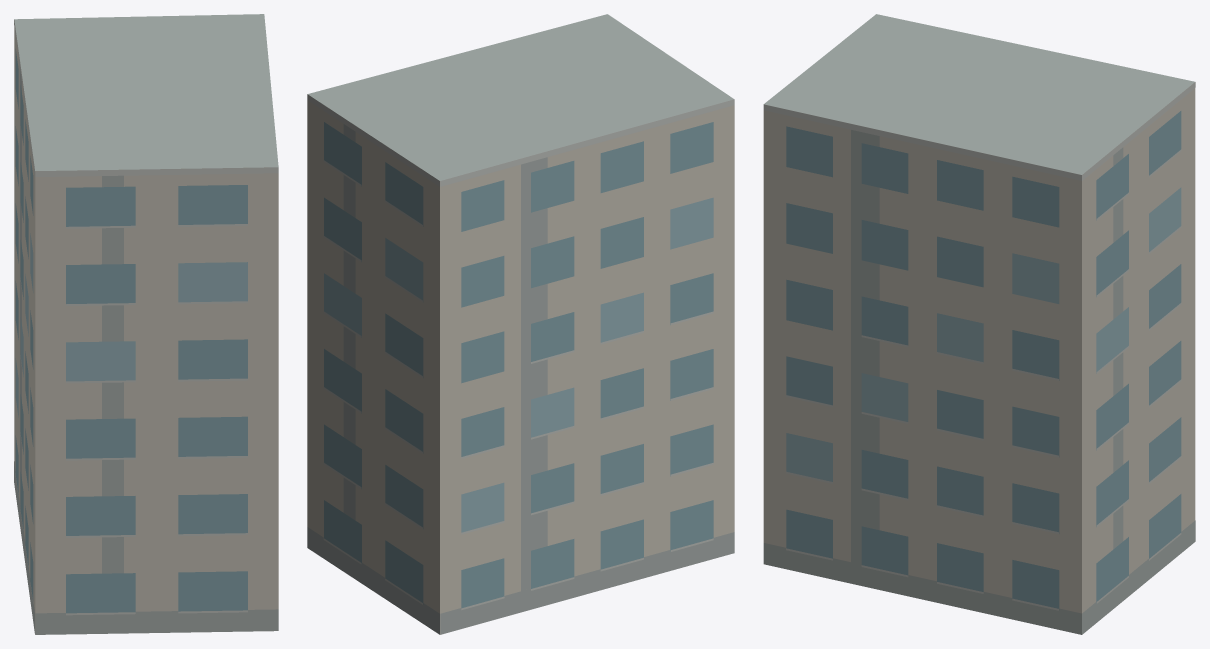
The model's file is survey-upis-32886590.glb.
The picture shows the model from 3 angles, left to right: view 1: azimuth 30°, elevation 25°; view 2: azimuth 150°, elevation 25°; view 3: azimuth 270°, elevation 25°; orthographic projection. The views are drawn at different scales.
Parts seen in each view (by area): view 1: survey-upis-32886590.tmp; view 2: survey-upis-32886590.tmp; view 3: survey-upis-32886590.tmp.
Part boxes in pixels (box(x1,y1,x2,y2)): survey-upis-32886590.tmp: box(14, 14, 278, 634); survey-upis-32886590.tmp: box(307, 14, 734, 634); survey-upis-32886590.tmp: box(763, 14, 1195, 634).
Size of the model in its own units: 14.13 by 18.8 by 16.01.
